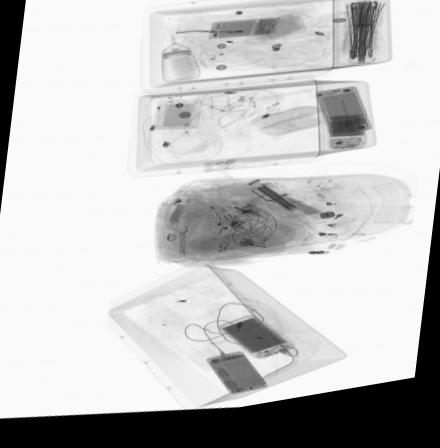Powerbank: (215, 320, 301, 368)
